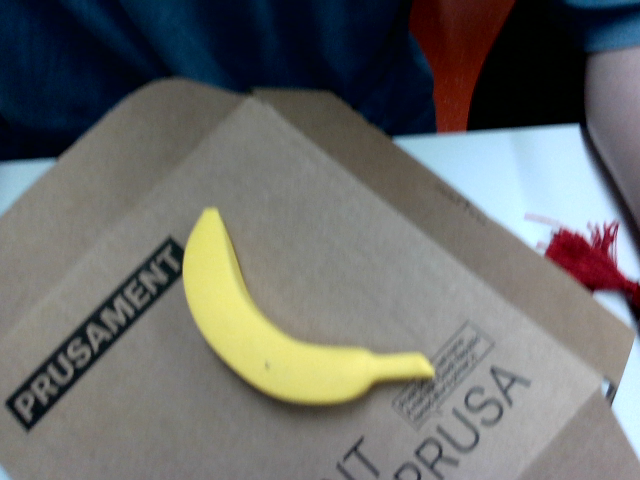banana: (138, 204, 439, 466)
